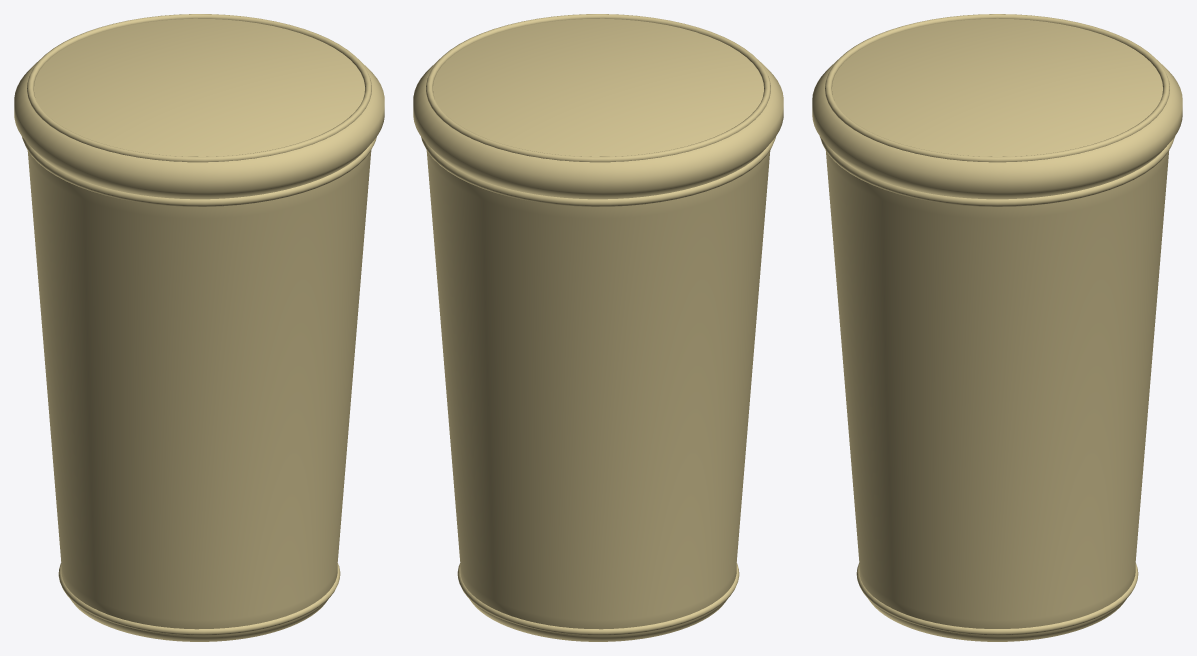
File: tastien-cup-hd.glb
The picture shows the model from 3 angles, left to right: view 1: azimuth 30°, elevation 25°; view 2: azimuth 150°, elevation 25°; view 3: azimuth 270°, elevation 25°; orthographic projection.
Visible parts, largest first — view 1: TastienGanganCup | Tastien warm yellow polypropylene, TastienGanganCupLid | Tastien warm yellow polypropylene; view 2: TastienGanganCup | Tastien warm yellow polypropylene, TastienGanganCupLid | Tastien warm yellow polypropylene; view 3: TastienGanganCup | Tastien warm yellow polypropylene, TastienGanganCupLid | Tastien warm yellow polypropylene.
Boxes of the visible parts, x1,y1,x2,y2 form: TastienGanganCup | Tastien warm yellow polypropylene: [22, 137, 376, 641]; TastienGanganCupLid | Tastien warm yellow polypropylene: [14, 14, 384, 199]; TastienGanganCup | Tastien warm yellow polypropylene: [421, 137, 775, 641]; TastienGanganCupLid | Tastien warm yellow polypropylene: [413, 14, 783, 199]; TastienGanganCup | Tastien warm yellow polypropylene: [819, 136, 1175, 641]; TastienGanganCupLid | Tastien warm yellow polypropylene: [812, 14, 1182, 199].
Bounding box in the file's own units: 0.252 × 0.3754 × 0.252.
